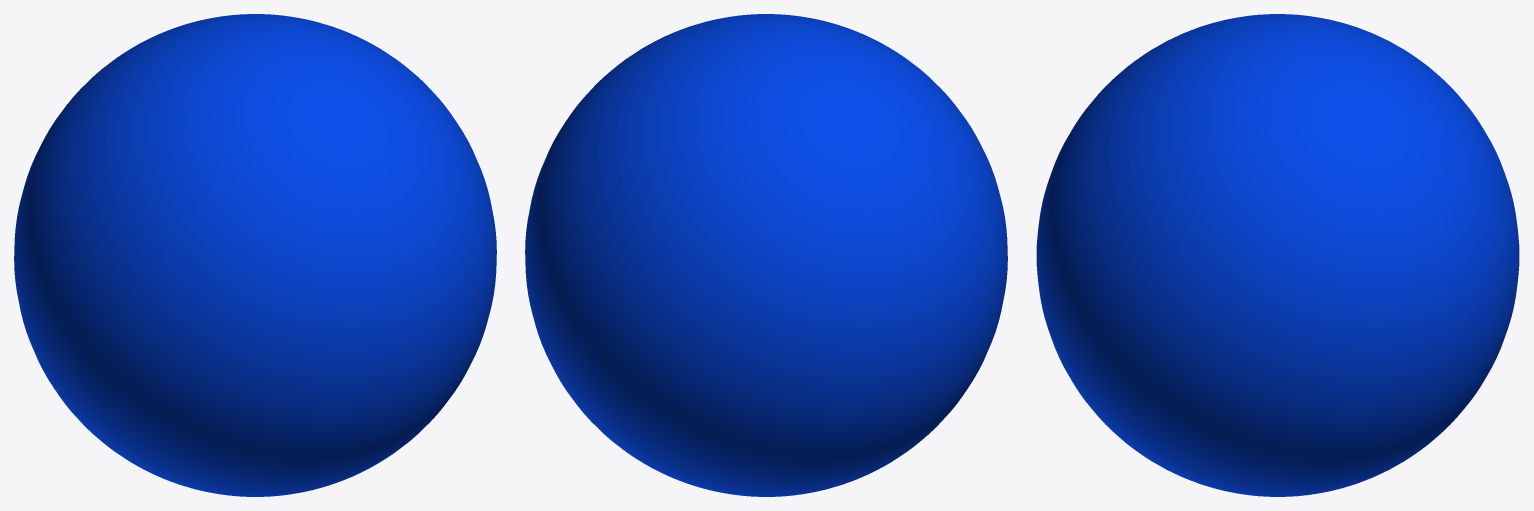
Rendered from Dalton.glb.
3 renders of one model, left to right at view 1: azimuth 30°, elevation 25°; view 2: azimuth 150°, elevation 25°; view 3: azimuth 270°, elevation 25°, orthographic.
Visible parts, largest first — view 1: Sphere; view 2: Sphere; view 3: Sphere.
Part boxes in pixels (left/top/right/bottom): Sphere: left=14, top=14, right=496, bottom=496; Sphere: left=525, top=14, right=1007, bottom=496; Sphere: left=1036, top=14, right=1519, bottom=496.
Bounding box in the file's own units: 2 × 2 × 2.
